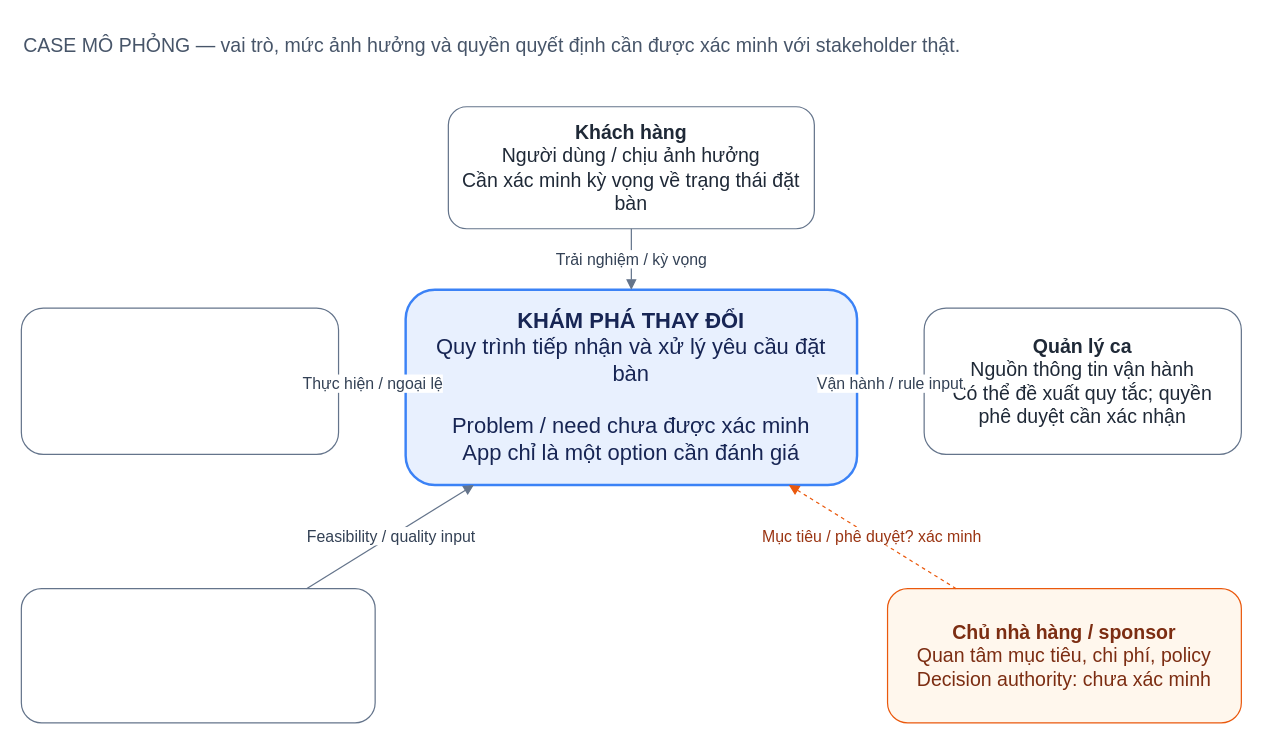
Some shapes in this 1263 by 744 pixel diagram are drawn without their labels. Here are the shapes that lost their labels. From the top down, the centre of each, then its label:
At (179,380): "Lễ tân Người vận hành quy trình Hỏi về handoff, ngoại lệ và thao tác thực tế".
At (197,655): "Dev / QA Tư vấn feasibility và testability Không tự phê duyệt business policy".
